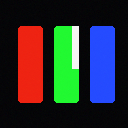4 line_v: (72, 26, 78, 68)
